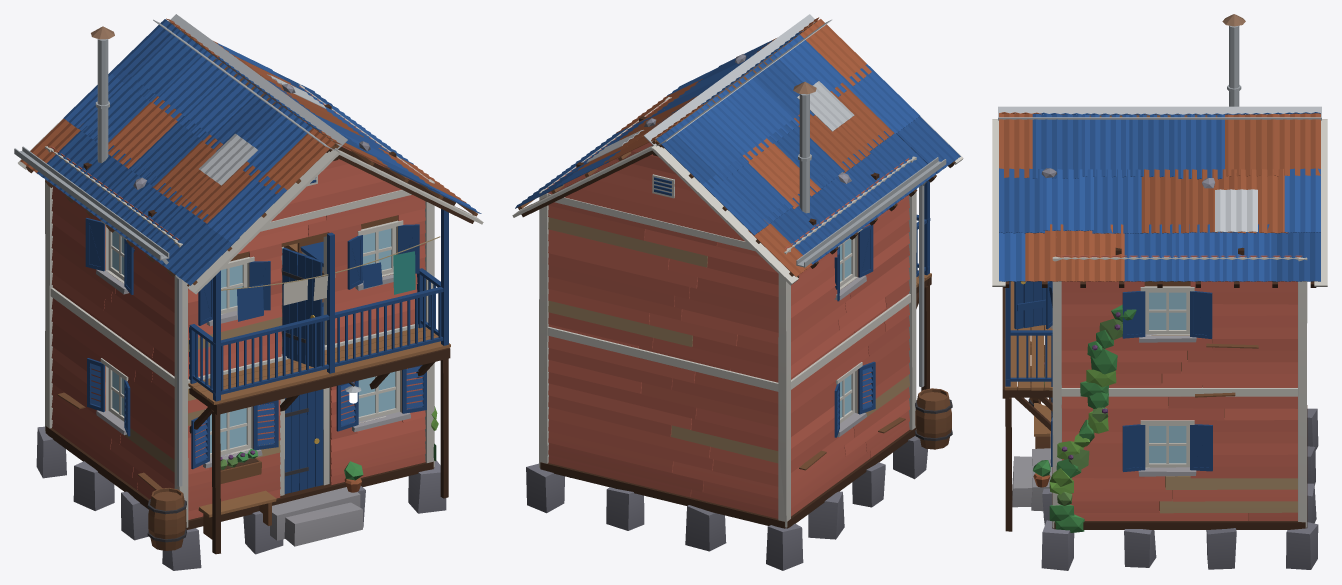
The picture shows the model from 3 angles, left to right: view 1: azimuth 30°, elevation 25°; view 2: azimuth 150°, elevation 25°; view 3: azimuth 270°, elevation 25°; orthographic projection. The views are drawn at different scales.
Visible parts, largest first — view 1: H14_WALL_S, H14_ROOF, H14_WALL_W, H14_BASE, H14_DOOR_main, H14_FLOOR2; view 2: H14_WALL_N, H14_ROOF, H14_WALL_W, H14_BASE, H14_WALL_E, H14_WALL_S; view 3: H14_WALL_E, H14_ROOF, H14_BASE, H14_WALL_S.
Part boxes in pixels (x1,y1,x2,y2): H14_WALL_S: [178, 118, 450, 554]; H14_ROOF: [18, 14, 483, 294]; H14_WALL_W: [14, 146, 186, 550]; H14_BASE: [36, 426, 446, 570]; H14_DOOR_main: [284, 389, 323, 493]; H14_FLOOR2: [281, 237, 323, 350]; H14_WALL_N: [539, 130, 790, 522]; H14_ROOF: [512, 14, 963, 285]; H14_WALL_W: [778, 156, 952, 527]; H14_BASE: [526, 427, 927, 570]; H14_WALL_E: [539, 97, 671, 467]; H14_WALL_S: [785, 40, 931, 429]; H14_WALL_E: [1049, 255, 1306, 532]; H14_ROOF: [992, 14, 1327, 287]; H14_BASE: [1012, 405, 1318, 570]; H14_WALL_S: [1002, 114, 1064, 531].
Bounding box in the file's own units: 5.44 × 7.97 × 5.47.
